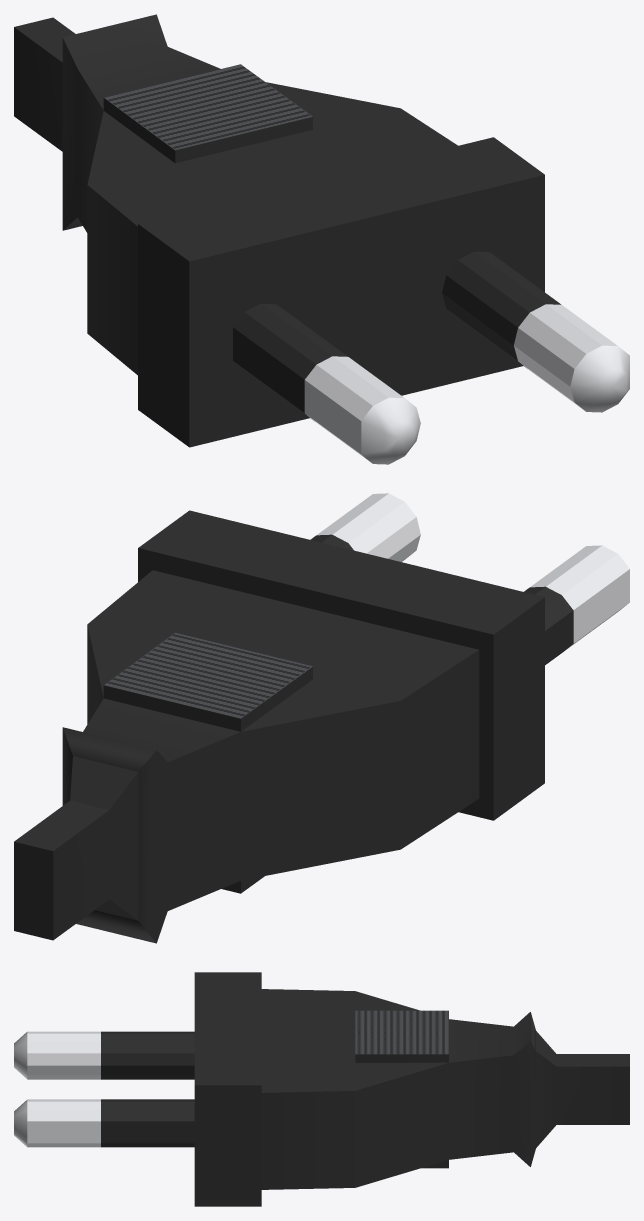
File: 944e1a12-bbb5-4bf6-a4b1-e4e9630c57a0.glb
The picture shows the model from 3 angles, top to bottom: view 1: azimuth 30°, elevation 25°; view 2: azimuth 150°, elevation 25°; view 3: azimuth 270°, elevation 25°; orthographic projection. The views are drawn at different scales.
Parts seen in each view (by area): view 1: Appliance_Plug_2; view 2: Appliance_Plug_2; view 3: Appliance_Plug_2.
Boxes of the visible parts, bbox=[...] form: Appliance_Plug_2: bbox=[14, 14, 629, 464]; Appliance_Plug_2: bbox=[14, 493, 629, 943]; Appliance_Plug_2: bbox=[14, 972, 629, 1206].
Bounding box in the file's own units: 200 × 104 × 460.
Materials: 1 (1 with a texture image).
